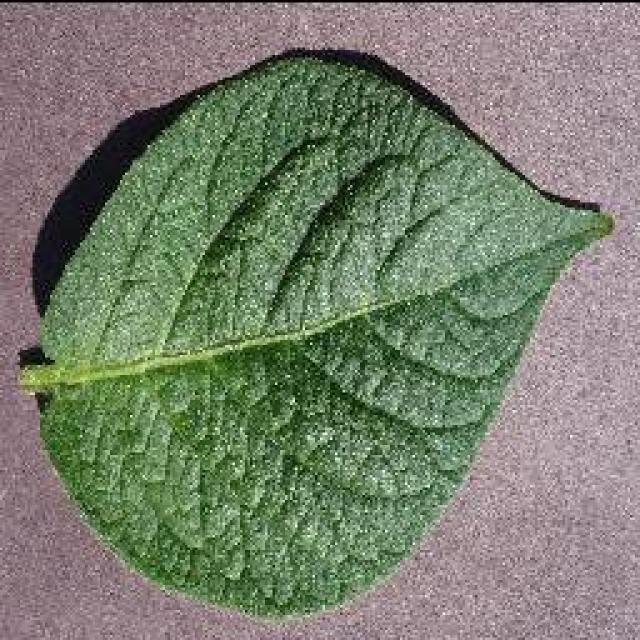Potato___healthy: (16, 47, 617, 620)
